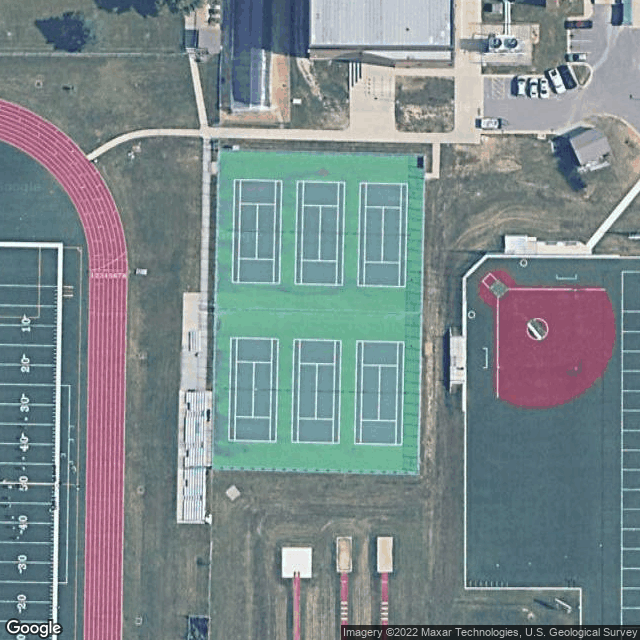Court: (355, 180, 409, 290), (229, 177, 283, 286), (292, 178, 346, 287), (226, 335, 280, 443), (352, 338, 406, 446), (290, 337, 343, 444)
